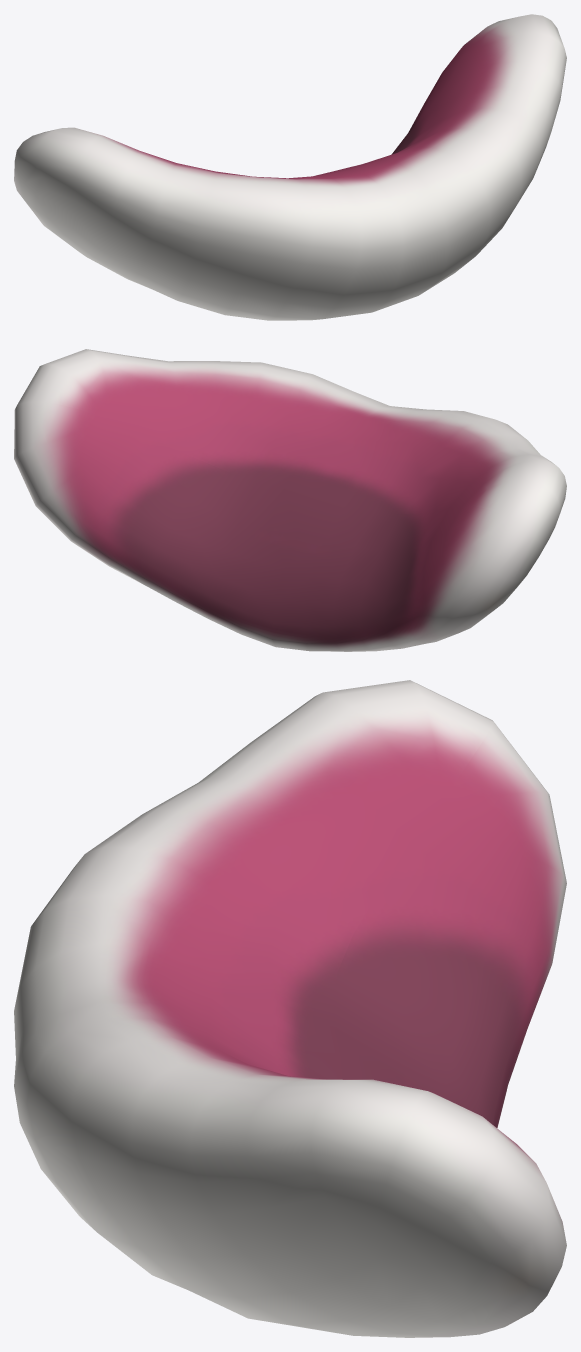
Rendered from MainPimpek_SparePartsKit.fbx.
3 renders of one model, top to bottom at view 1: azimuth 30°, elevation 25°; view 2: azimuth 150°, elevation 25°; view 3: azimuth 270°, elevation 25°, orthographic. The views are drawn at different scales.
Visible parts, largest first — view 1: main_model.001; view 2: main_model.001; view 3: main_model.001.
Part boxes in pixels (left/top/right/bottom): main_model.001: left=14, top=14, right=566, bottom=320; main_model.001: left=14, top=349, right=566, bottom=651; main_model.001: left=14, top=680, right=566, bottom=1337.
Bounding box in the file's own units: 182 × 72.16 × 92.85.
